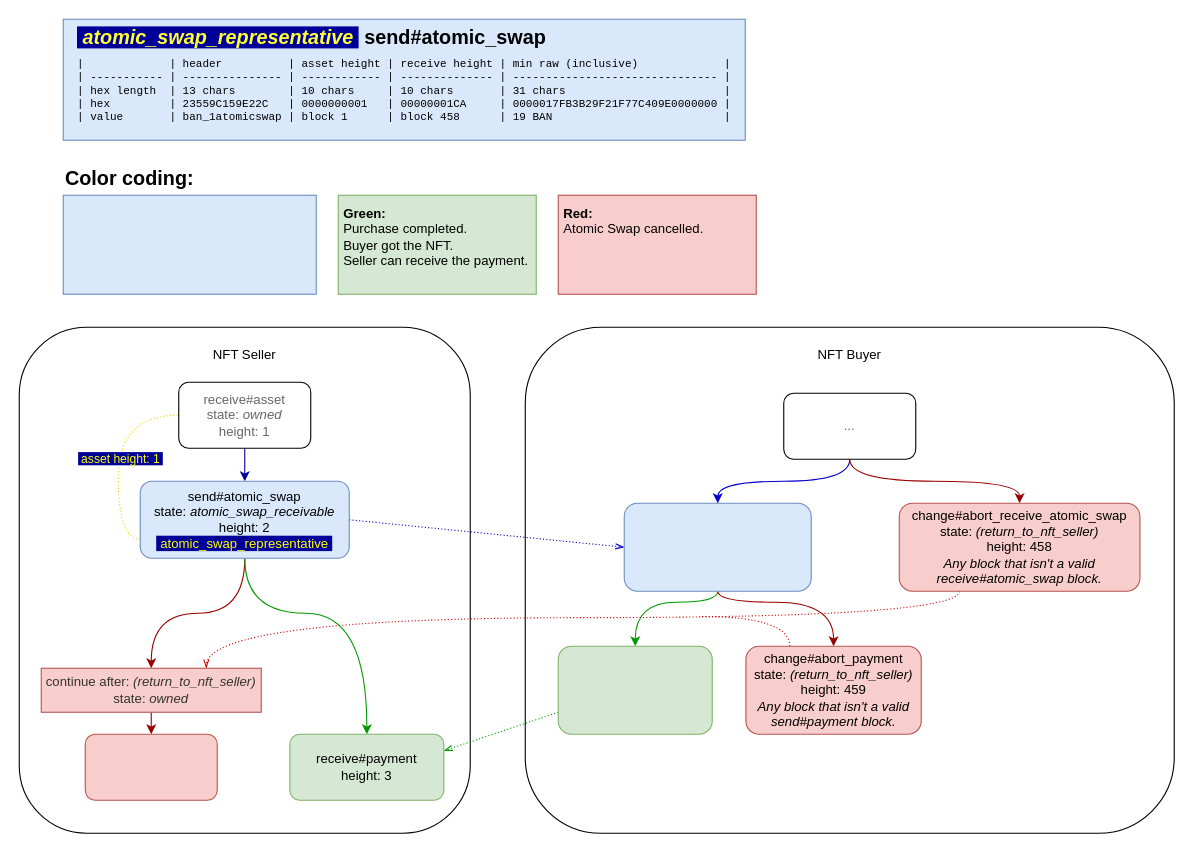
Some shapes in this 1194 by 853 pixel diagram are drawn without their labels. Here are the shapes that lost their labels. From the top down, the box of each, then its label:
(62, 194, 316, 294): Blue: Both the NFT Seller and NFT Buyer can cancel the Atomic Swap at any time.
(623, 502, 811, 591): receive#atomic_swap state: atomic_swap_payable height: 458
(557, 645, 712, 734): send#payment state: owned height: 459
(84, 733, 217, 800): ... height: 3
